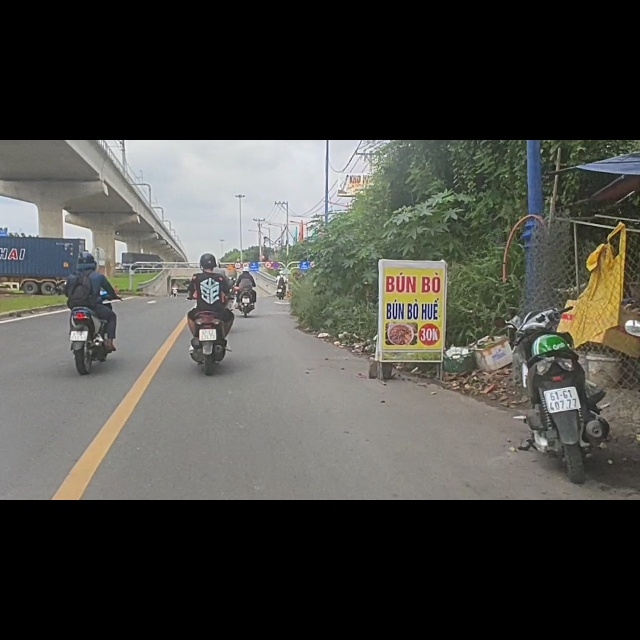bien_nguy_hiem: (273, 216, 281, 230), (234, 216, 241, 229), (242, 216, 249, 229)
